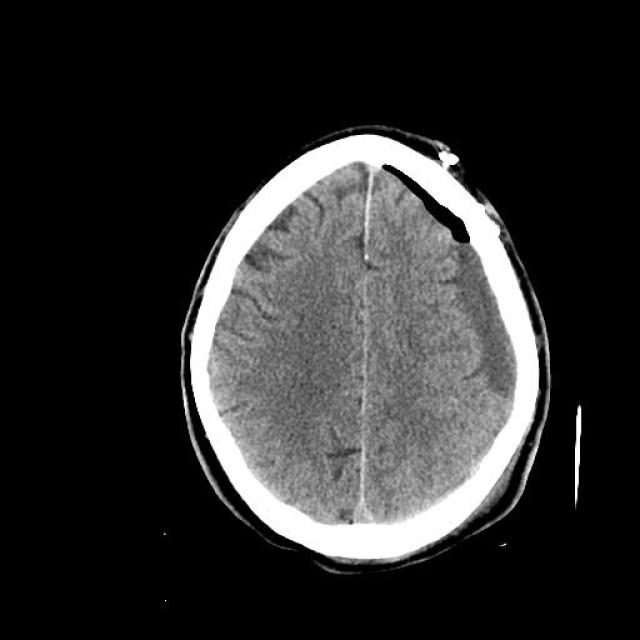Subdural: (436, 204, 536, 418)
